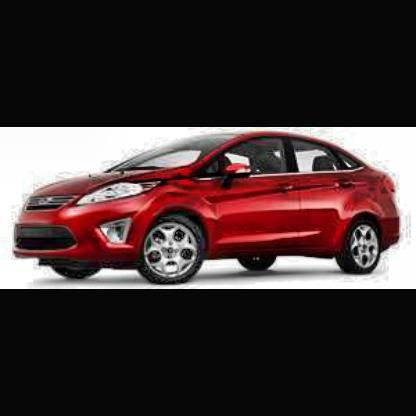Ford Fiesta Sedan 2012: (17, 131, 406, 286)
